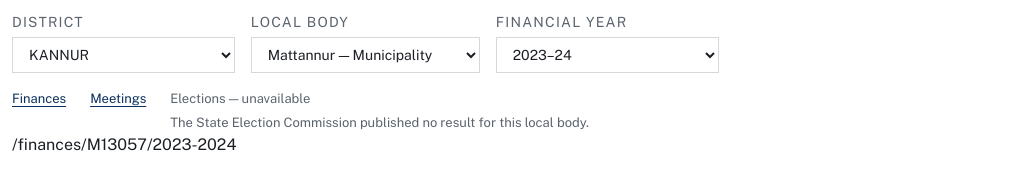
Test: BodySelector › keeps the chosen year when the body changes
Step 1. Select "Panoor — Grama Panchayat" in the dropdown labelled "Local body" → (365, 55), box [251, 37, 480, 73]
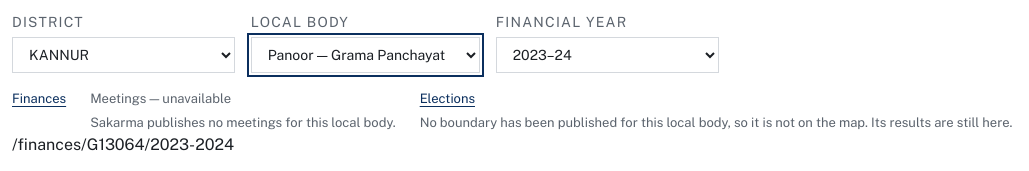
Check: the text with test id "address" reads "/finances/G13064/2023-2024", box [12, 135, 234, 154]
